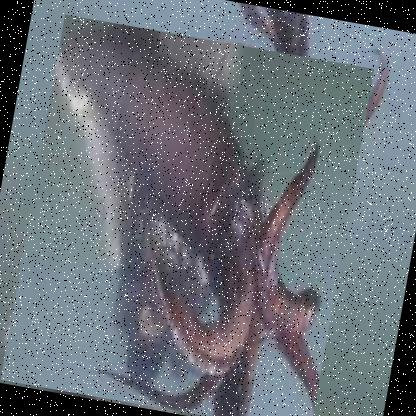colossal_squid: (0, 14, 375, 415)
